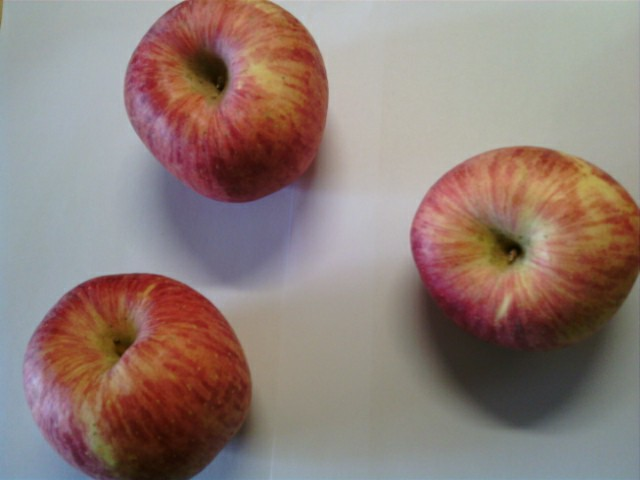normal_apple: (23, 273, 252, 480), (411, 145, 640, 352), (119, 1, 330, 203)
